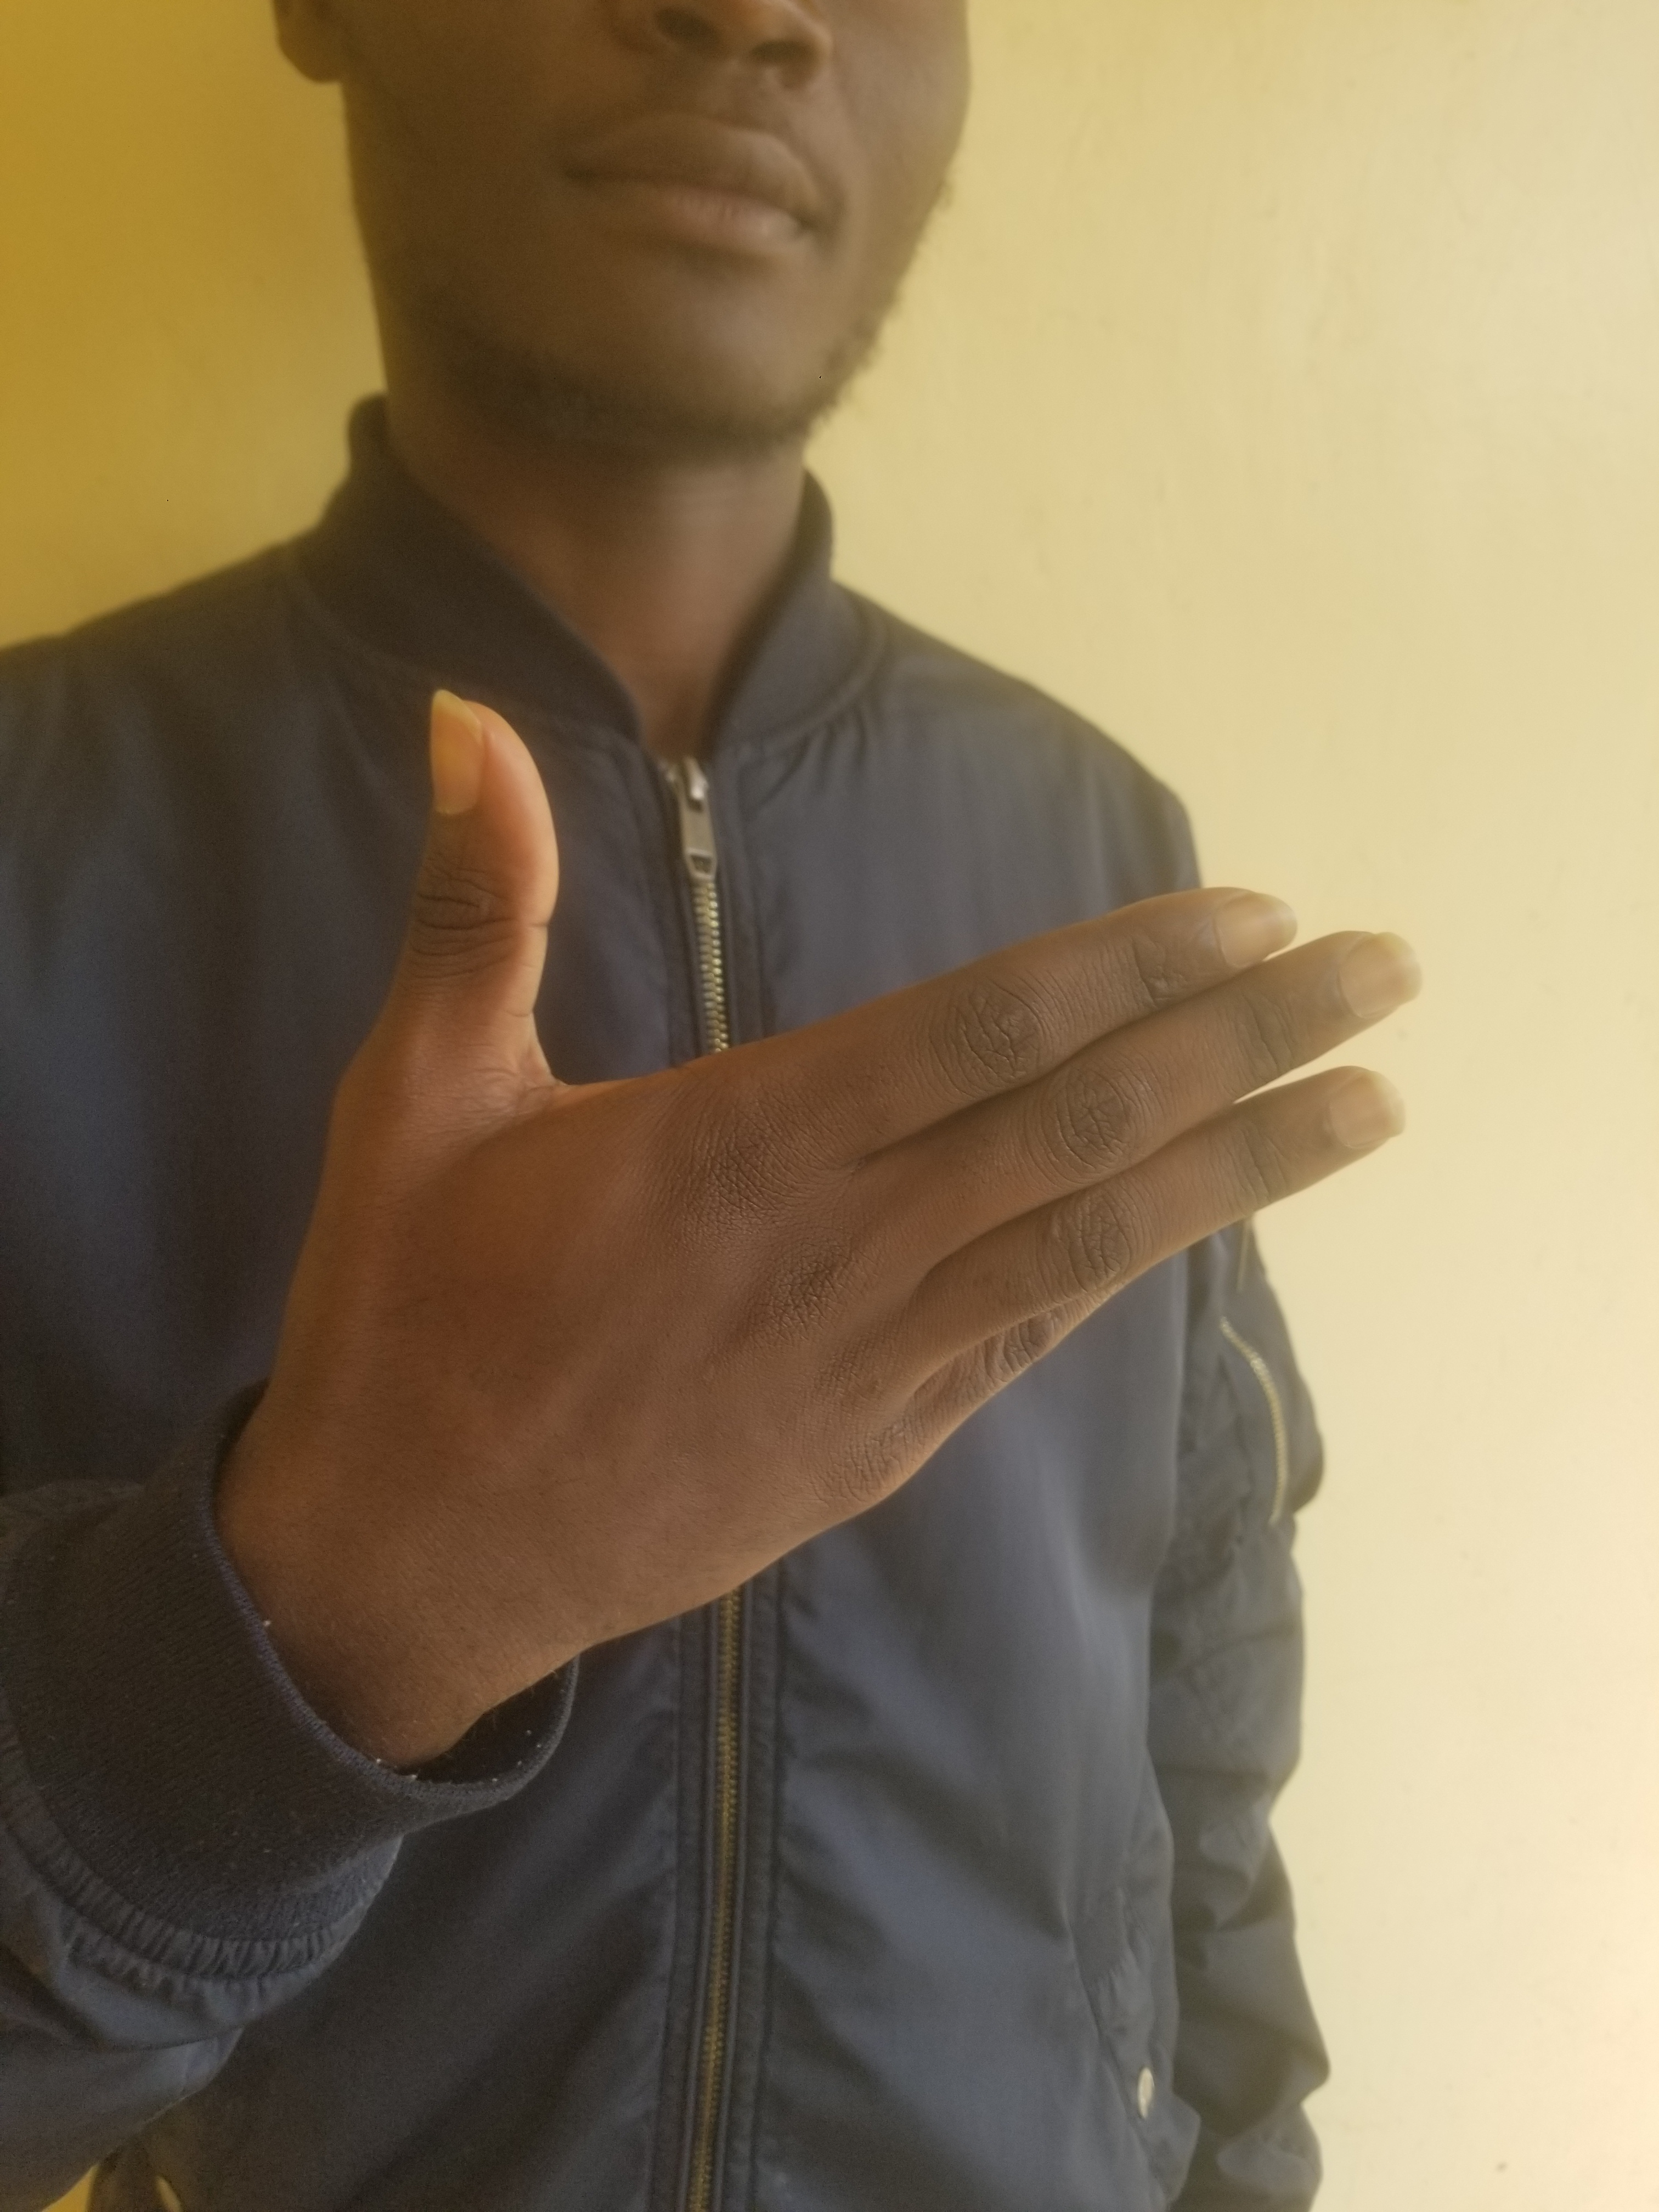open palm: (251, 686, 1605, 1827)
